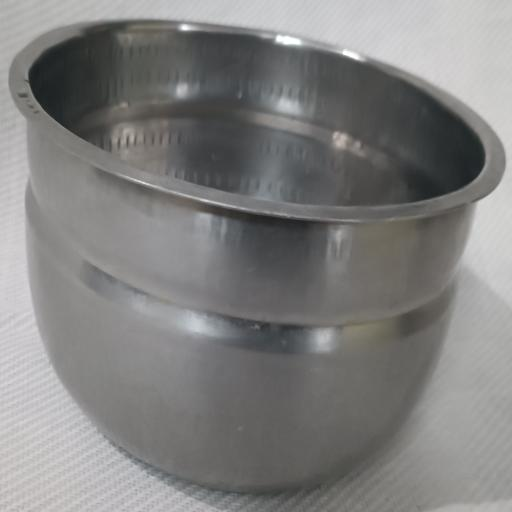vessel: (8, 20, 505, 492)
